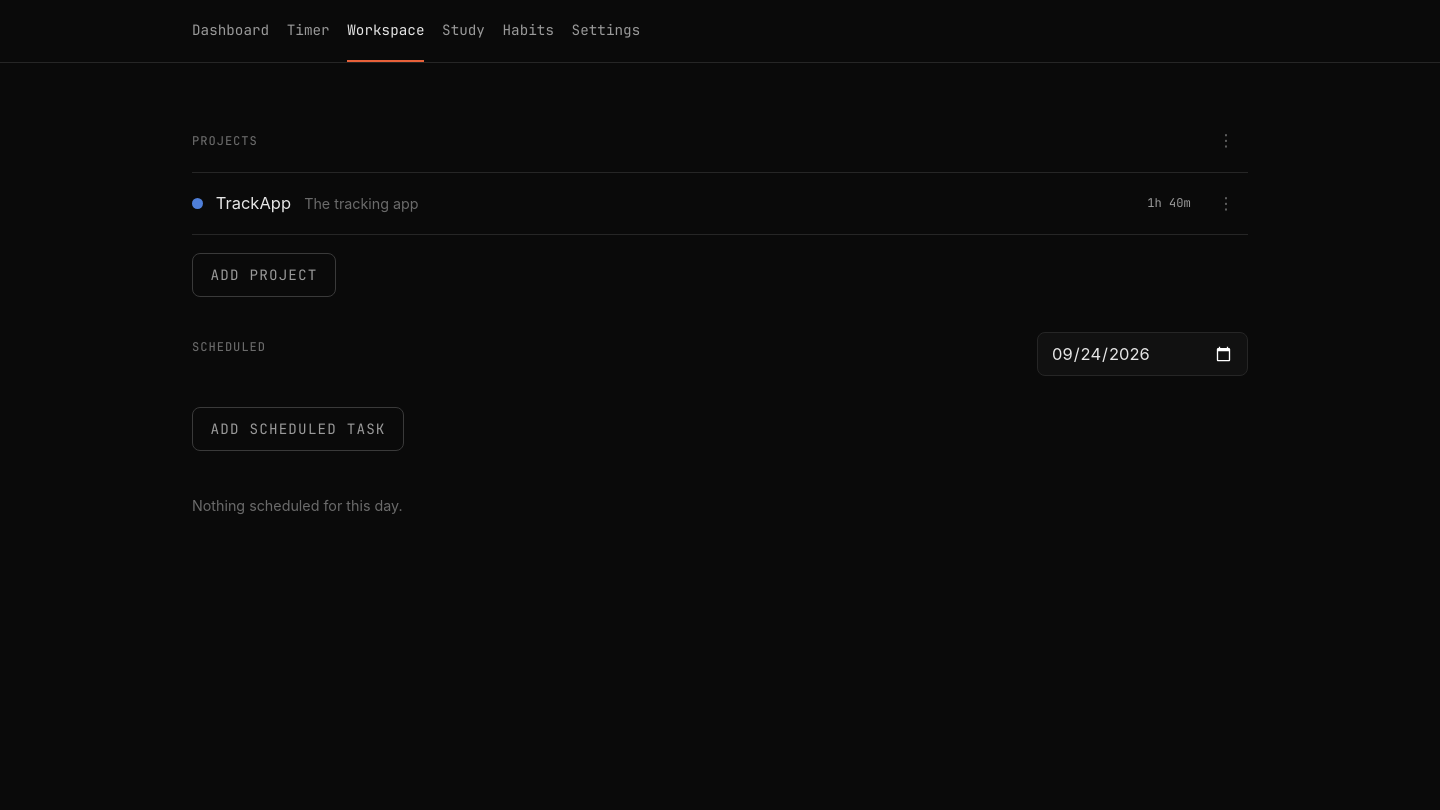
Scenario: deleting a project › rolls the project back and shows a toast when the delete fails
Click the button named "more trackapp".
click(1226, 203)  # box [1204, 186, 1248, 221]
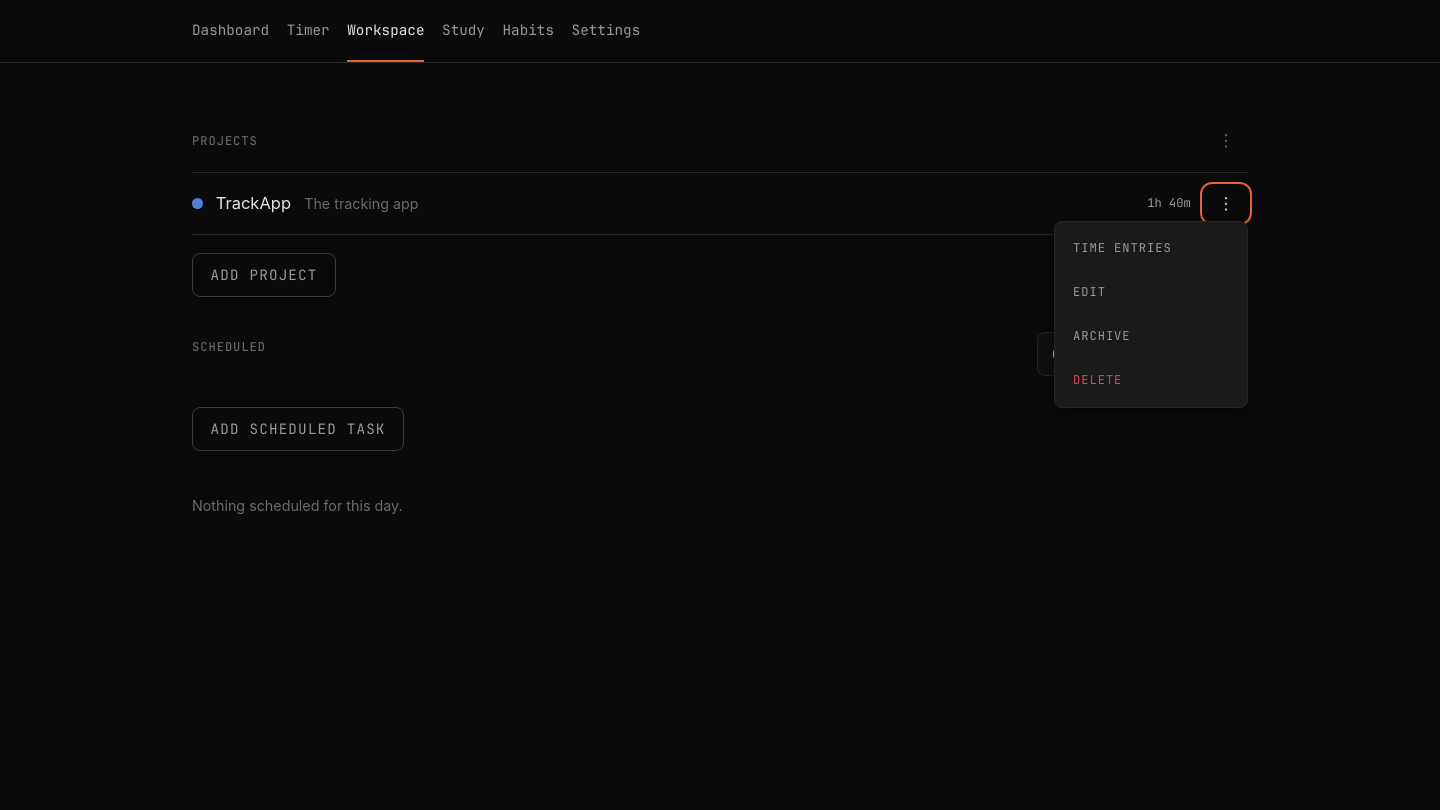
Click the button "Delete".
click(1151, 380)  # box [1060, 358, 1243, 402]
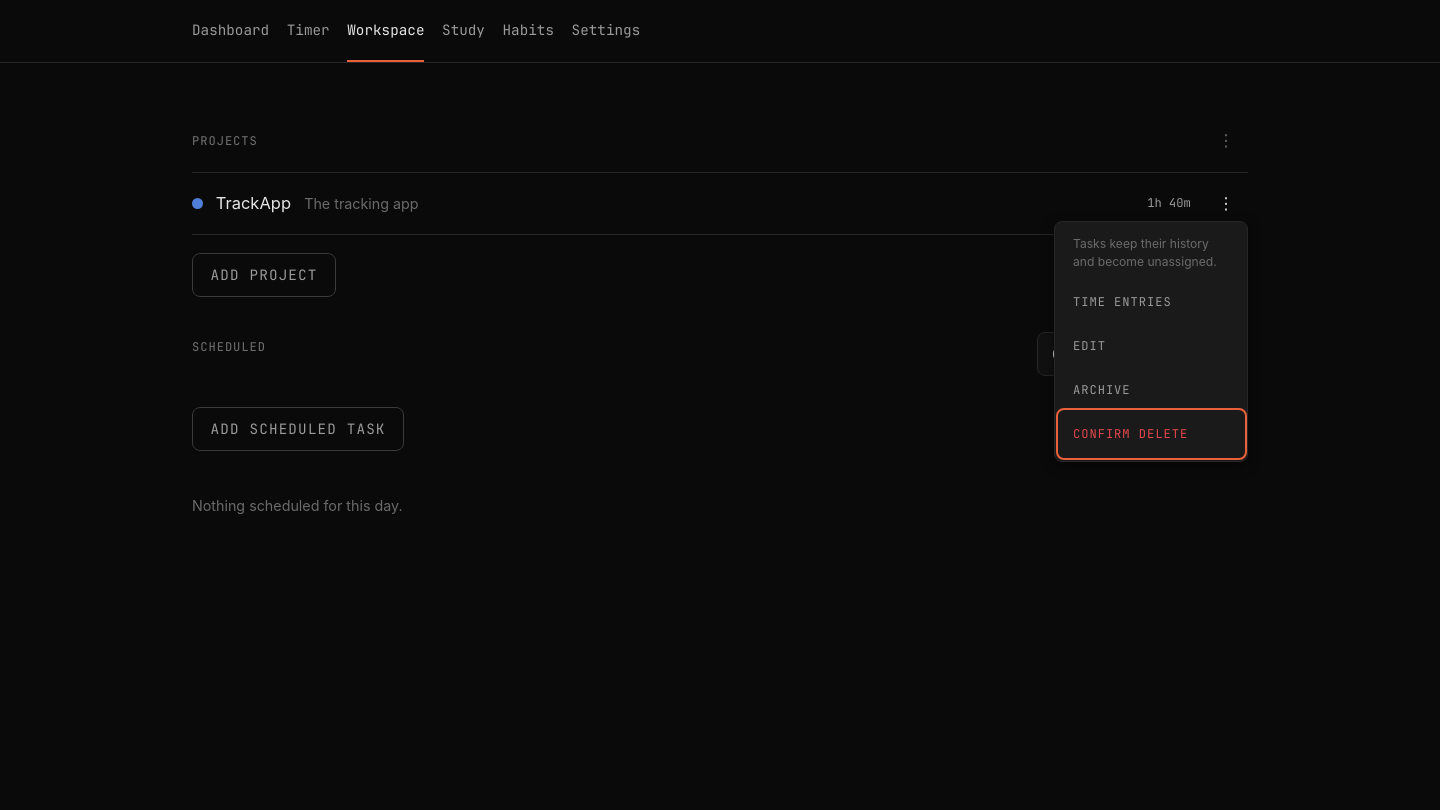
Click the button "Confirm delete".
click(1151, 434)  # box [1060, 412, 1243, 456]
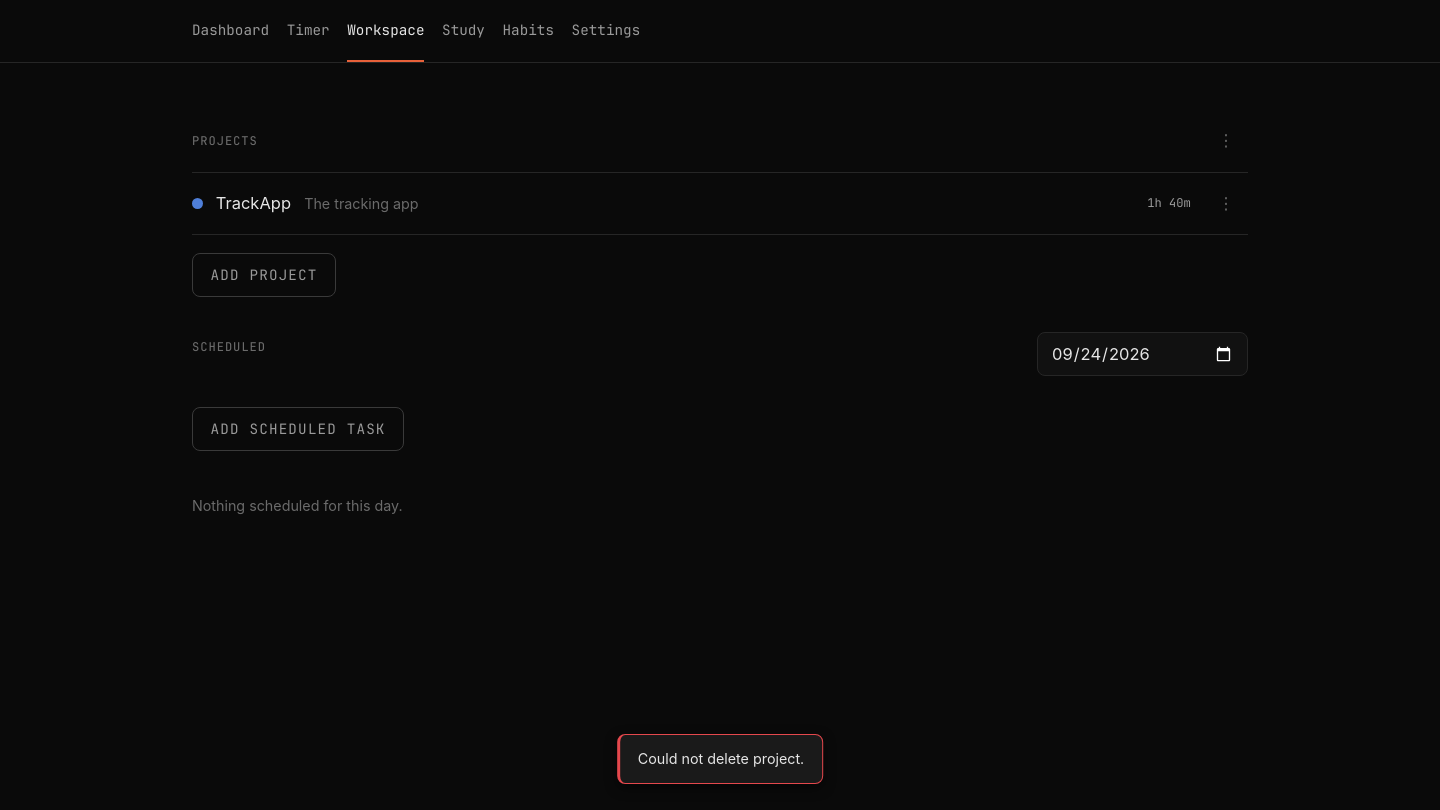
Expected: the button named "more trackapp" is shown, [1204, 186, 1248, 221]
Expected: the text "Could not delete project." is shown, [617, 734, 823, 784]
